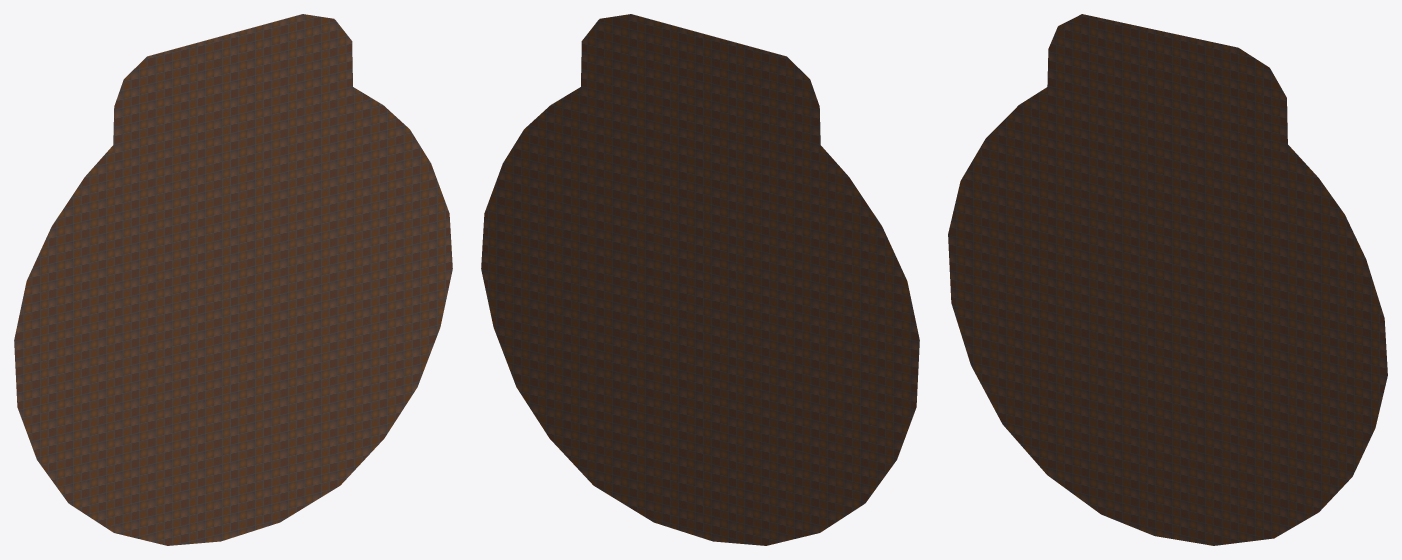
File: floor_19.obj
3 views of the same model, side by side, from view 1: azimuth 30°, elevation 25°; view 2: azimuth 150°, elevation 25°; view 3: azimuth 330°, elevation 25° (orthographic).
Visible parts, largest first — view 1: floor_19; view 2: floor_19; view 3: floor_19.
Part boxes in pixels (bbox=[...]): floor_19: bbox=[14, 14, 452, 545]; floor_19: bbox=[481, 14, 919, 545]; floor_19: bbox=[948, 14, 1387, 545].
Size of the model in its own units: 26.48 by 29.28 by 0.1.
1 material, 1 textured.
